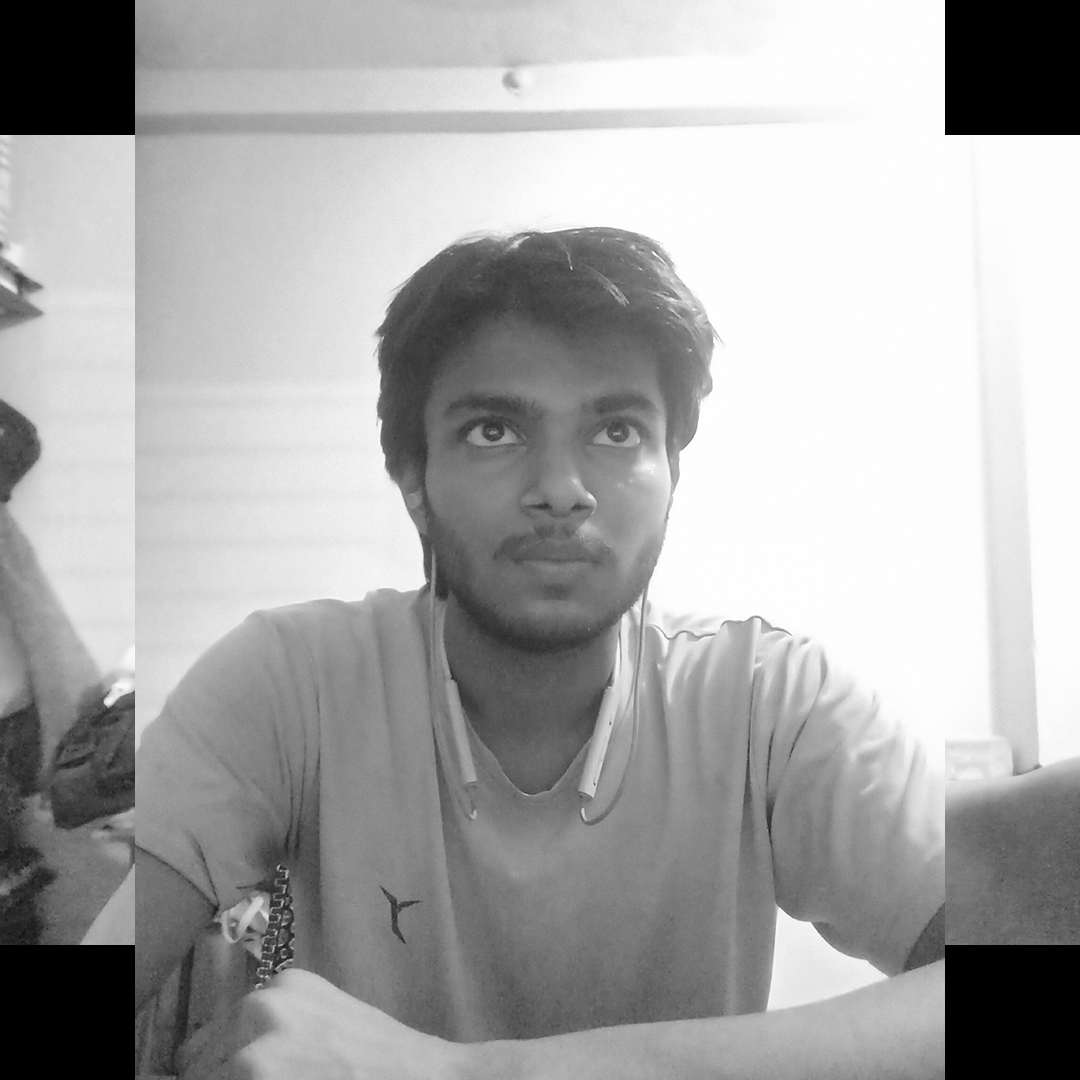Focused: (279, 106, 776, 781)
